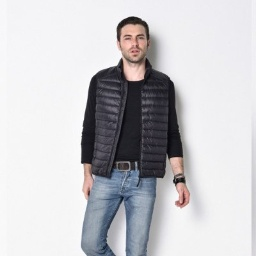face: (113, 14, 153, 66)
